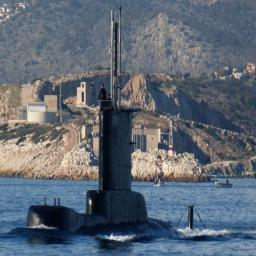submarine: (27, 4, 199, 232)
